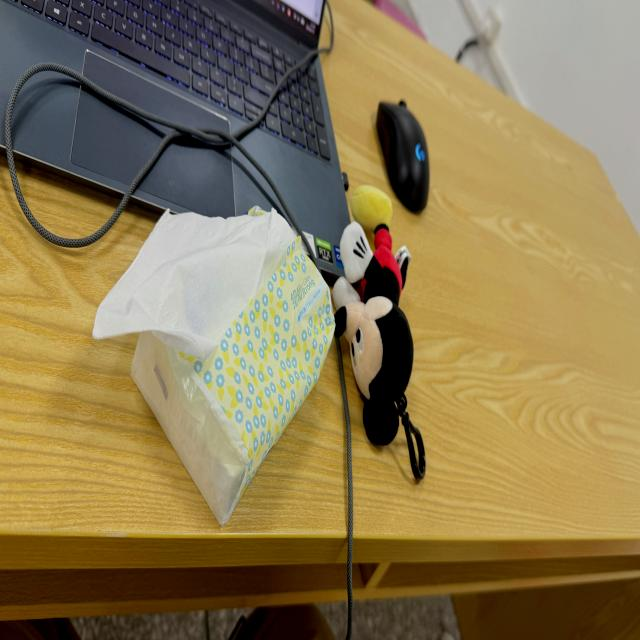mickey: (333, 188, 424, 479)
tissue: (94, 211, 334, 525), (93, 211, 295, 359)
